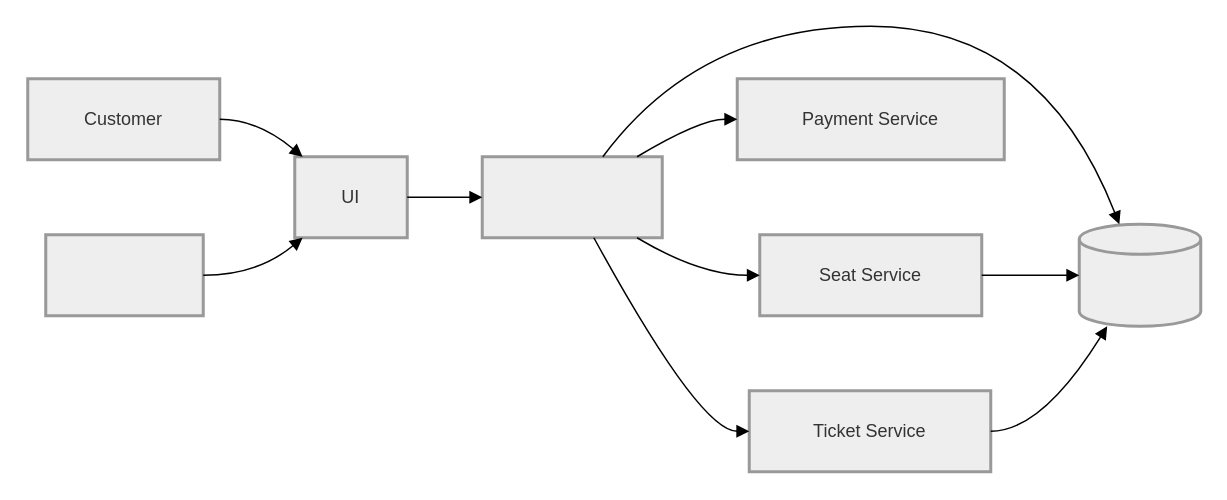
Image size: 1227x500. Some labels were removed from this diagram. Here are the shapes that lost their labels. From the top down, the box of each, then its label:
(480, 154, 663, 238): Backend
(44, 232, 204, 316): Admin
(1077, 222, 1202, 327): Database
